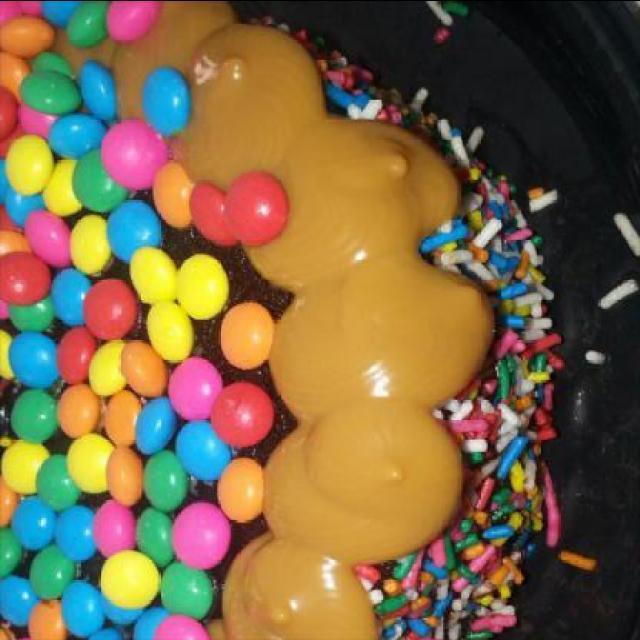Candy: (62, 1, 570, 612)
